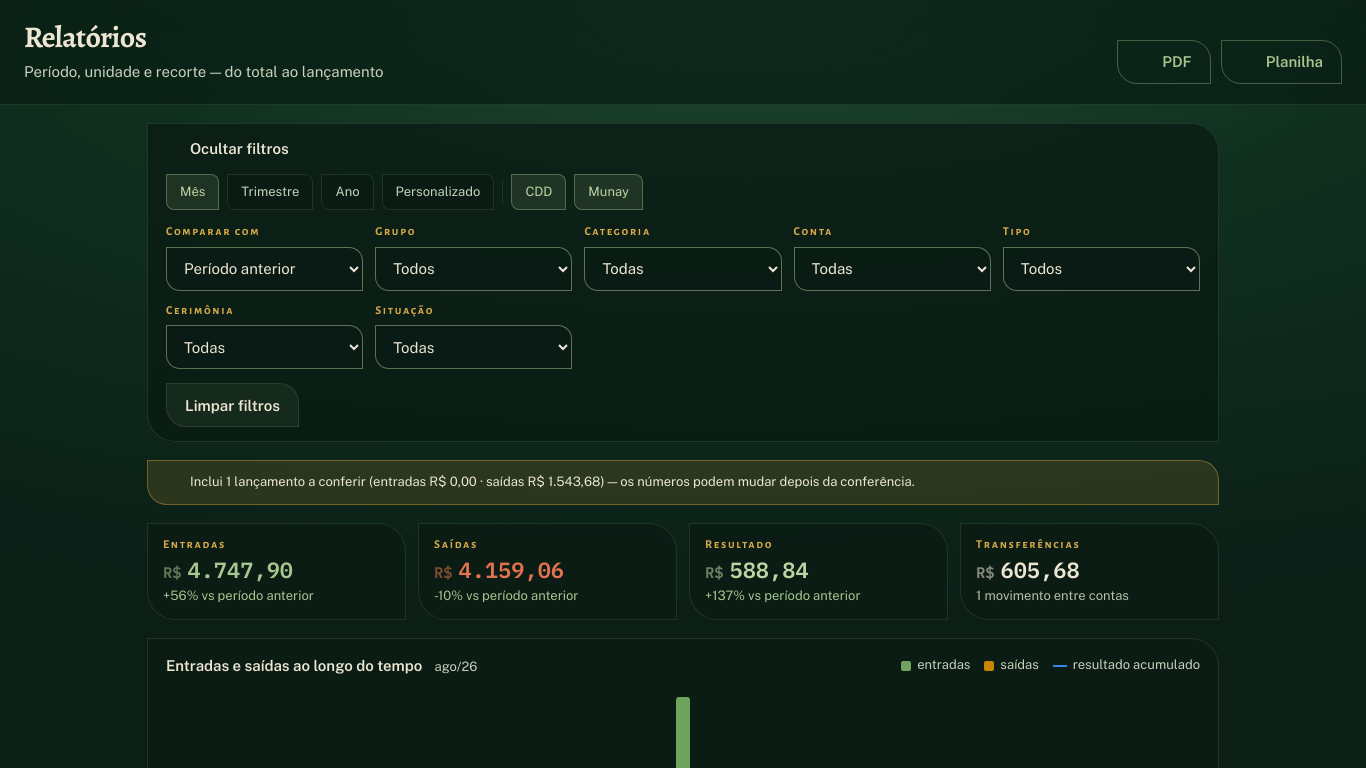
RelatoriosPage: filtros no escritório › período — Mês começa marcado e escolher Ano move a marca e amplia o rótulo do período
The width and height of the screenshot is (1366, 768).
Click the button "Ano": (347, 192) left=321, top=174, right=374, bottom=210
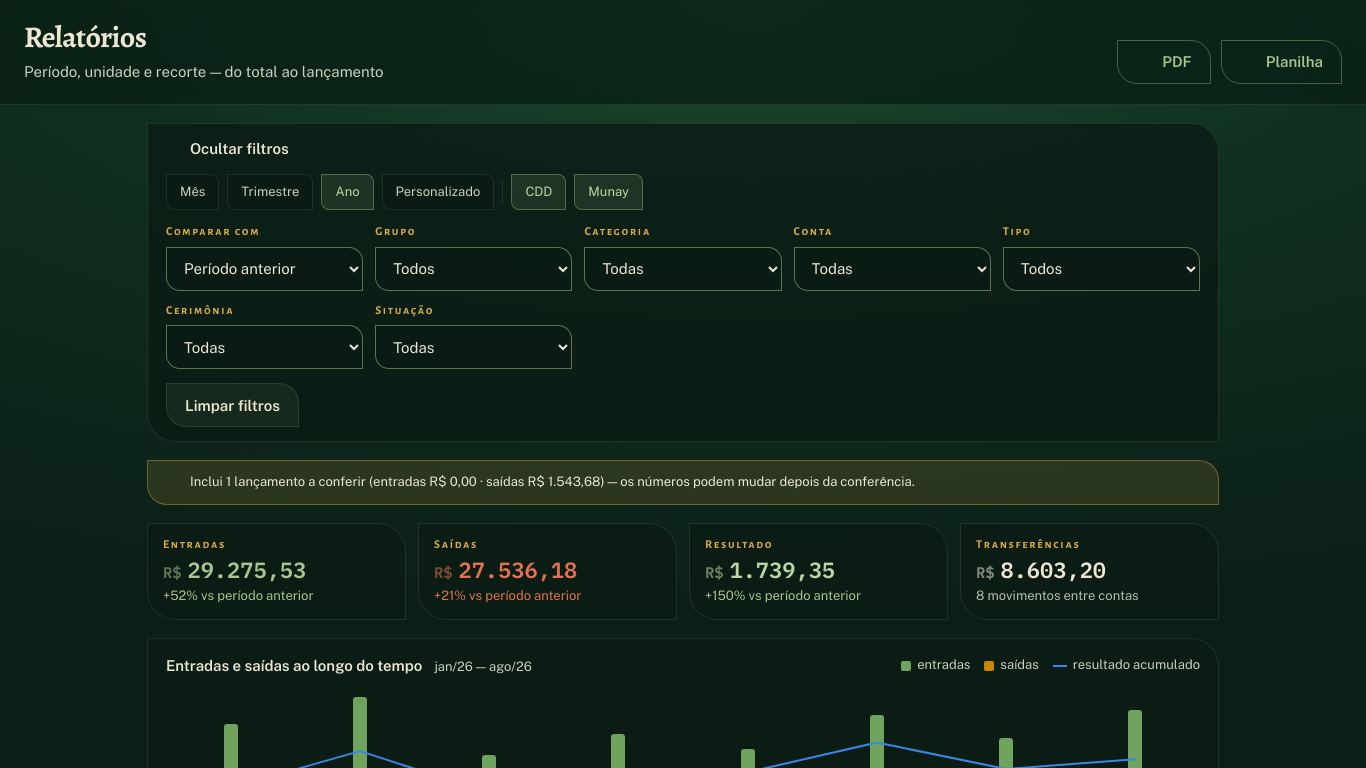
Expected: the text "jan/26 — ago/26" is shown, left=434, top=658, right=532, bottom=677
